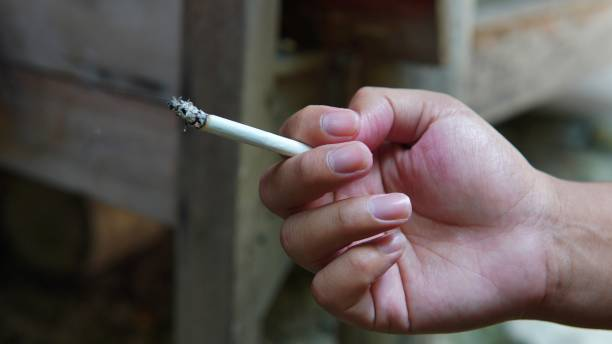cigarette: (173, 95, 310, 158)
